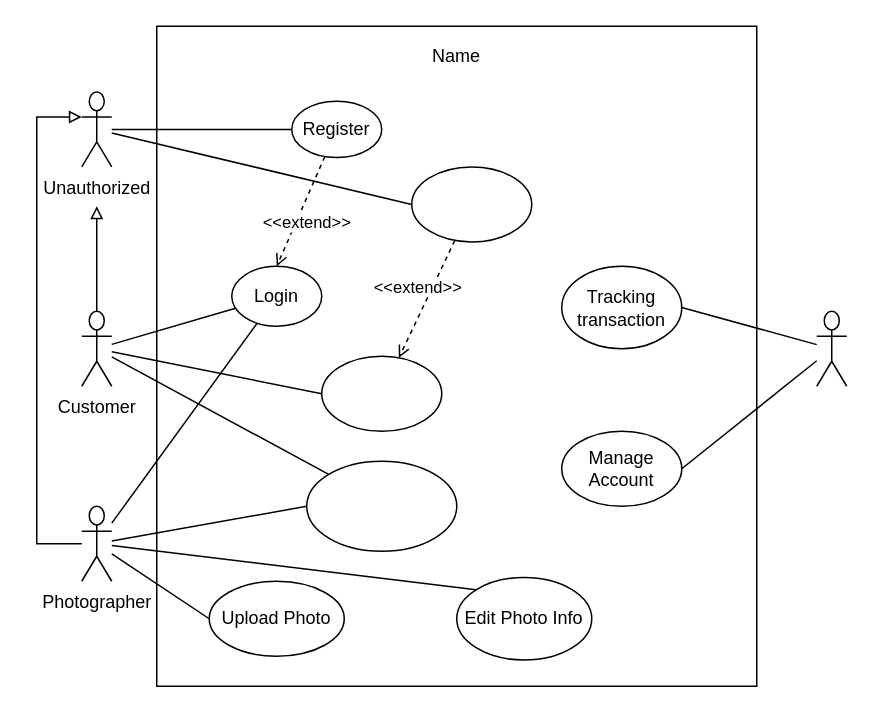
Some shapes in this 888 by 713 pixel diagram are drawn without their labels. Each missing label, with the box of its shape:
Buy Photo: (320, 355, 442, 431)
History: (305, 460, 457, 551)
System: (815, 310, 847, 386)
View Photograph: (410, 165, 532, 242)
